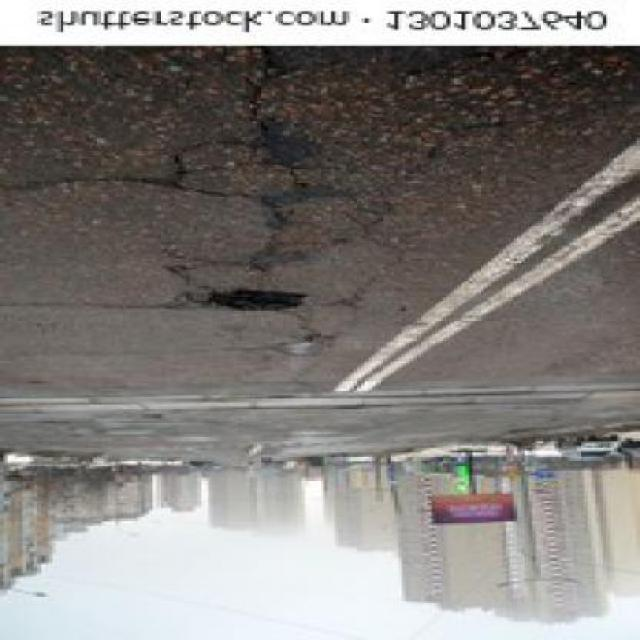Pothole: (185, 288, 306, 310)
